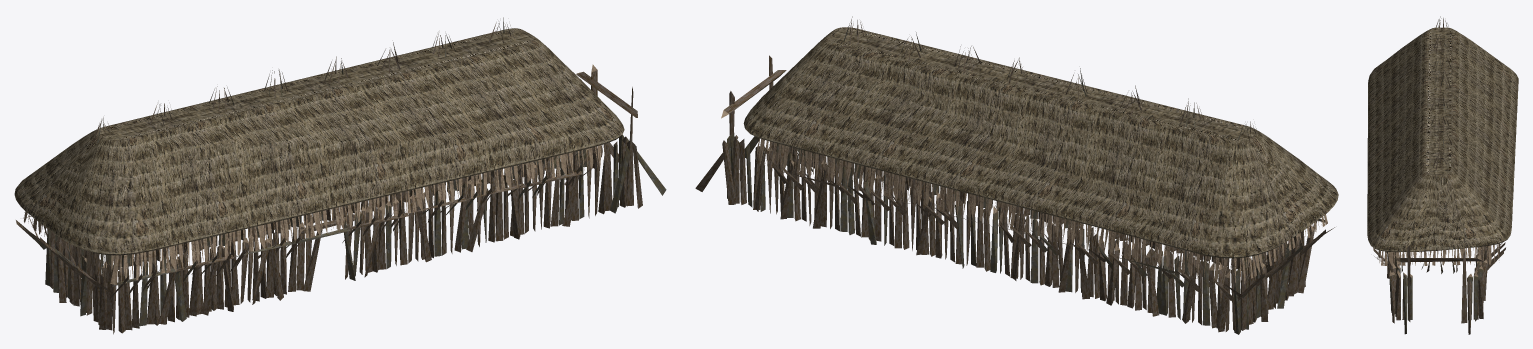
File: caney_largo.glb
The picture shows the model from 3 angles, left to right: view 1: azimuth 30°, elevation 25°; view 2: azimuth 150°, elevation 25°; view 3: azimuth 270°, elevation 25°; orthographic projection. The views are drawn at different scales.
Visible parts, largest first — view 1: caney_largo; view 2: caney_largo; view 3: caney_largo.
Part boxes in pixels (left/top/right/bottom): caney_largo: left=14, top=17, right=666, bottom=334; caney_largo: left=695, top=16, right=1338, bottom=334; caney_largo: left=1367, top=16, right=1518, bottom=334.
Size of the model in its own units: 22.26 by 7.14 by 6.89.
4 materials, 4 textured.
